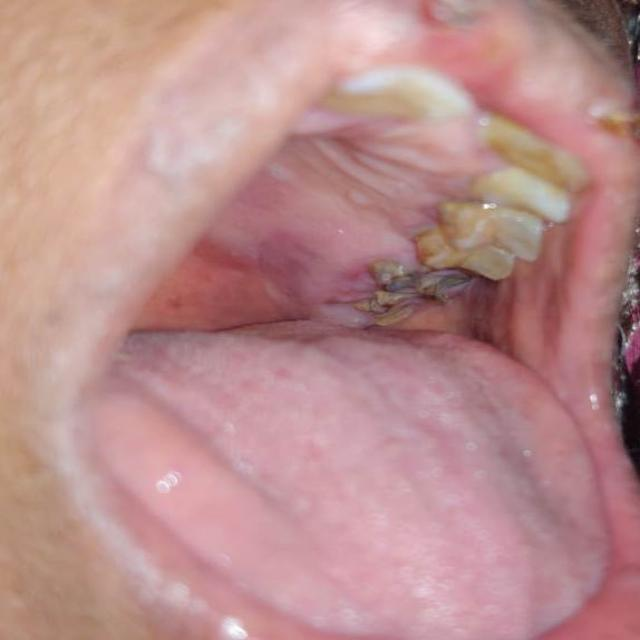Cancer: (279, 198, 550, 398)
